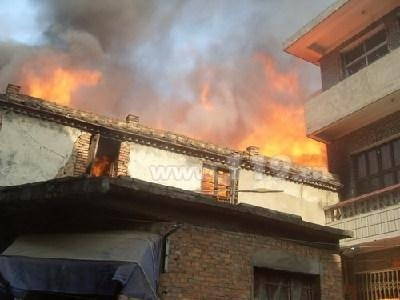fire: (26, 64, 99, 106)
